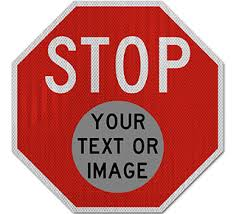stop sign: (10, 1, 224, 214)
